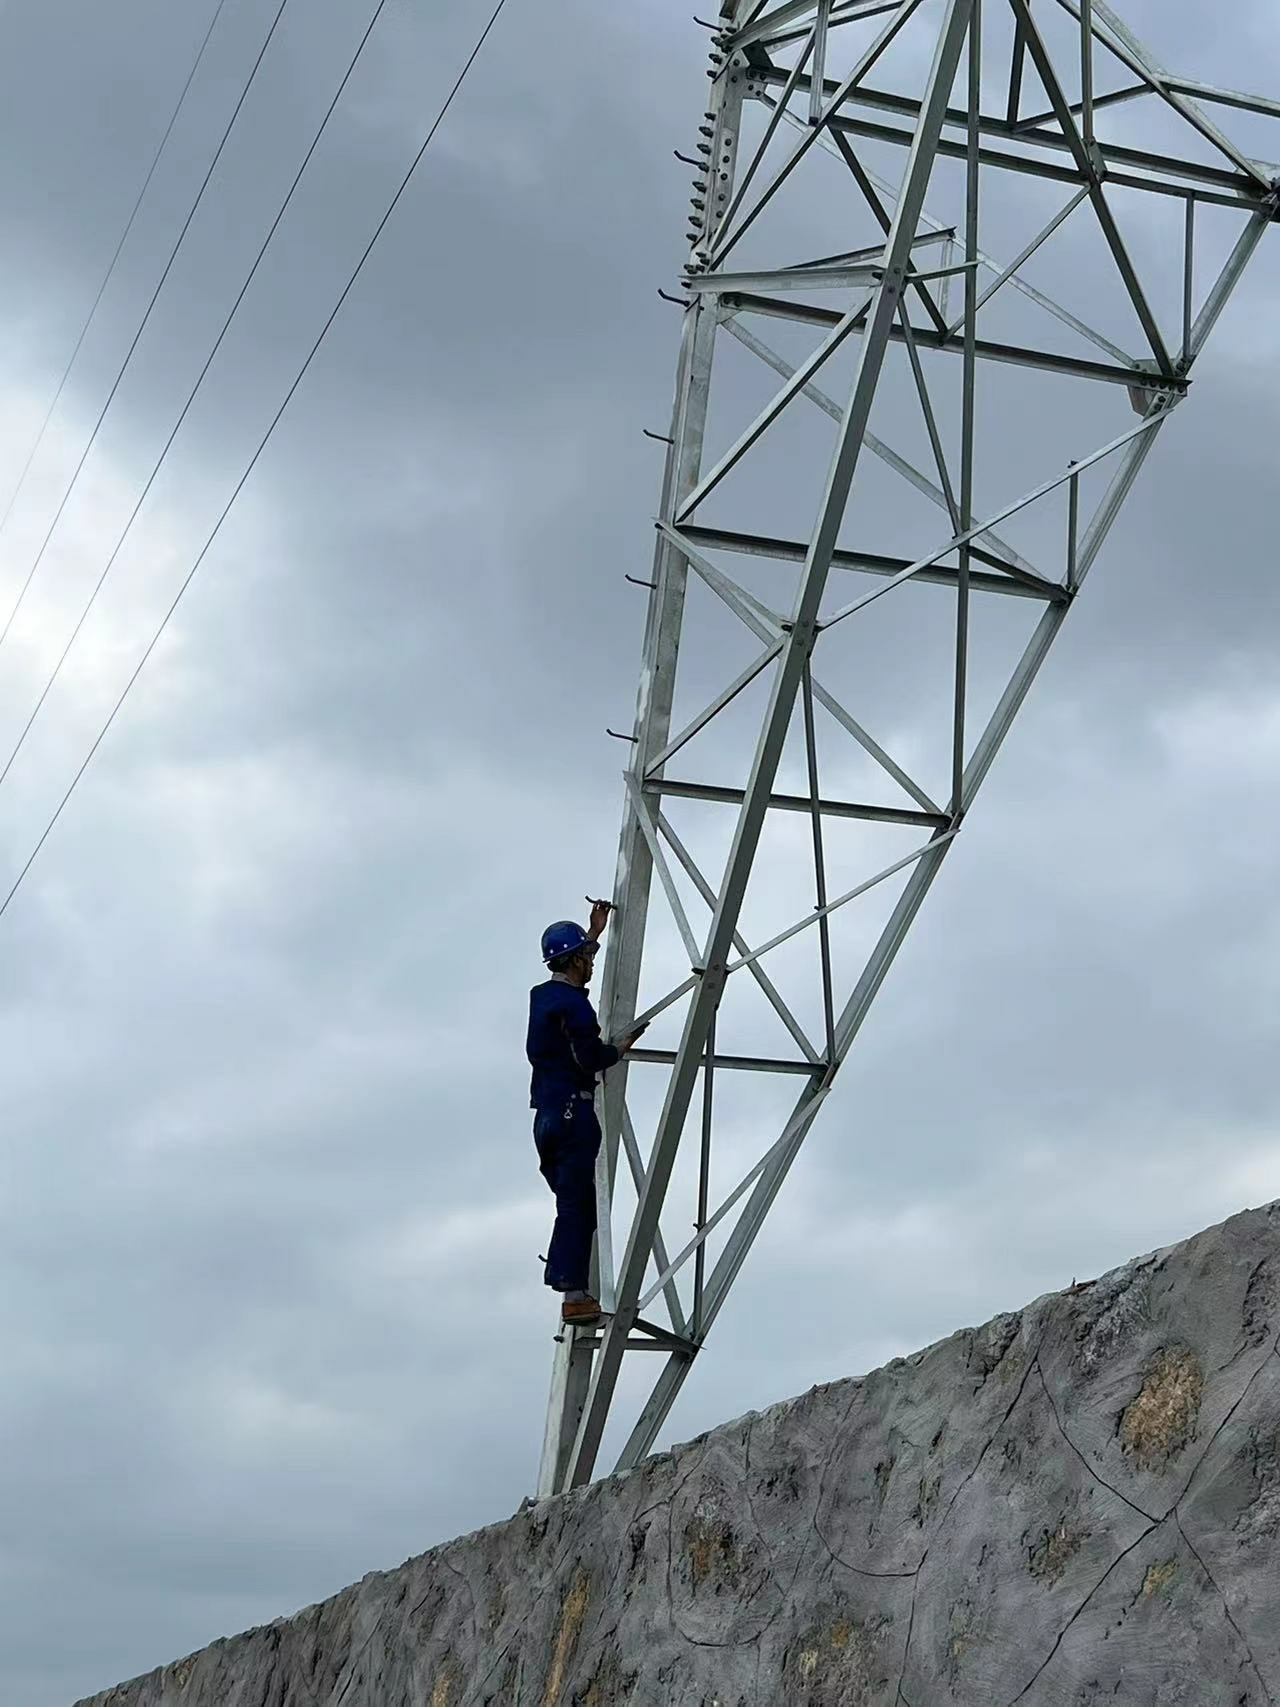hat: (536, 914, 604, 989)
